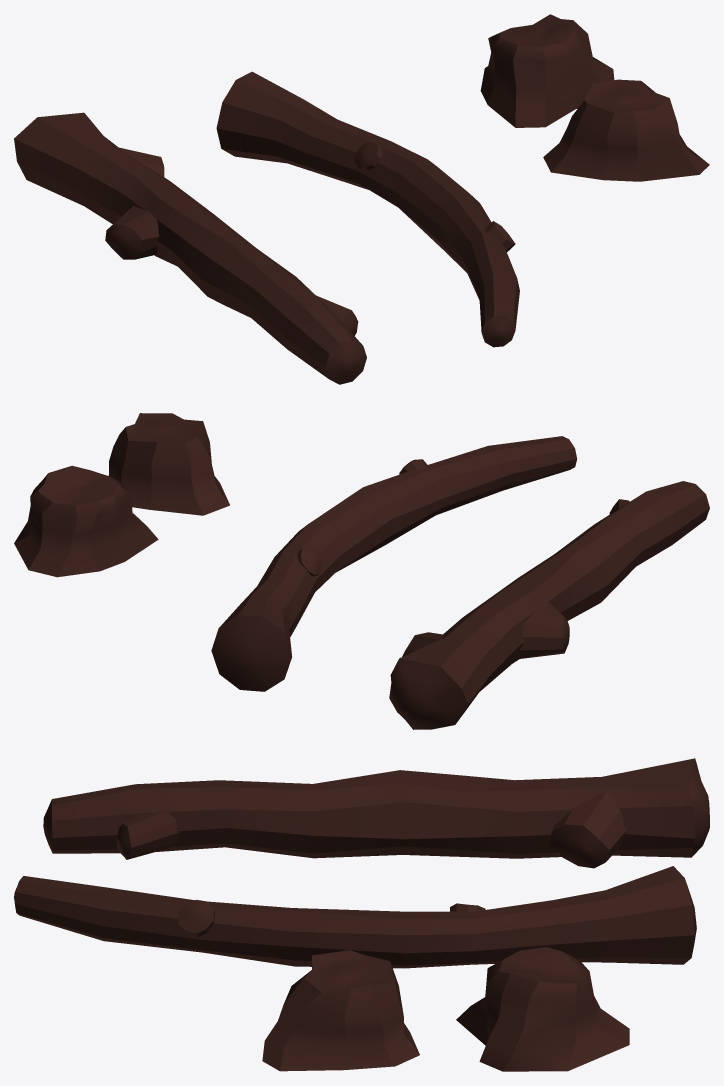
The model's file is Logs and Stumps.fbx.
3 renders of one model, top to bottom at view 1: azimuth 30°, elevation 25°; view 2: azimuth 150°, elevation 25°; view 3: azimuth 270°, elevation 25°, orthographic. The views are drawn at different scales.
Parts seen in each view (by area): view 1: pCylinder1, pCylinder5, pCylinder10, pCylinder9, pCylinder2, pCylinder6; view 2: pCylinder5, pCylinder1, pCylinder9, pCylinder10, pCylinder2, pCylinder6; view 3: pCylinder1, pCylinder5, pCylinder9, pCylinder10, pCylinder3, pCylinder4, pCylinder7.
Boxes of the visible parts, bbox=[...] form: pCylinder1: bbox=[14, 112, 366, 384]; pCylinder5: bbox=[216, 71, 519, 347]; pCylinder10: bbox=[543, 79, 709, 181]; pCylinder9: bbox=[480, 14, 614, 127]; pCylinder2: bbox=[105, 206, 159, 259]; pCylinder6: bbox=[354, 142, 383, 170]; pCylinder5: bbox=[211, 436, 576, 691]; pCylinder1: bbox=[389, 481, 709, 729]; pCylinder9: bbox=[14, 465, 158, 577]; pCylinder10: bbox=[108, 413, 229, 515]; pCylinder2: bbox=[518, 602, 569, 658]; pCylinder6: bbox=[297, 547, 322, 576]; pCylinder1: bbox=[43, 758, 709, 858]; pCylinder5: bbox=[14, 866, 696, 968]; pCylinder9: bbox=[456, 947, 629, 1071]; pCylinder10: bbox=[262, 950, 419, 1071]; pCylinder3: bbox=[548, 791, 626, 868]; pCylinder4: bbox=[116, 810, 179, 859]; pCylinder7: bbox=[178, 899, 214, 937].
Size of the model in its own units: 18.59 by 3.82 by 18.68.
